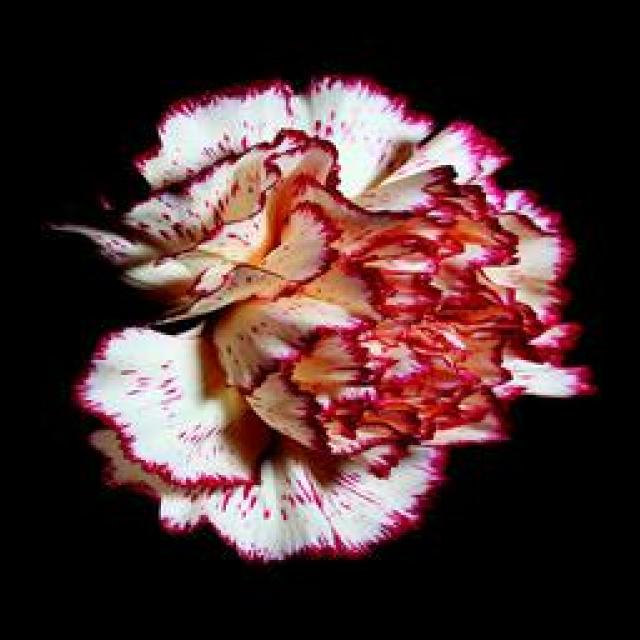carnation: (74, 58, 584, 584)
